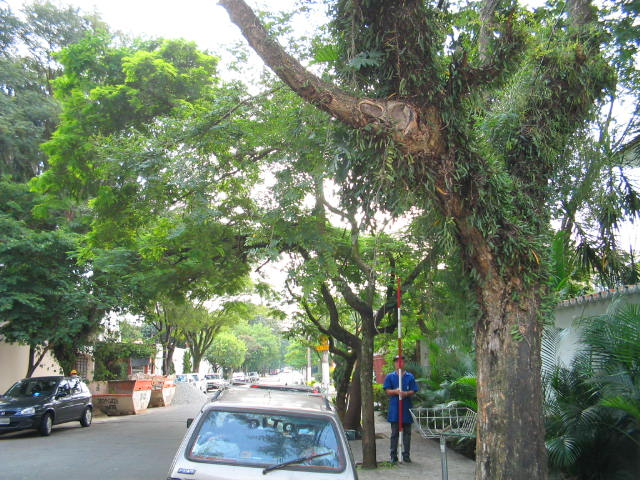stick: (392, 277, 409, 464)
